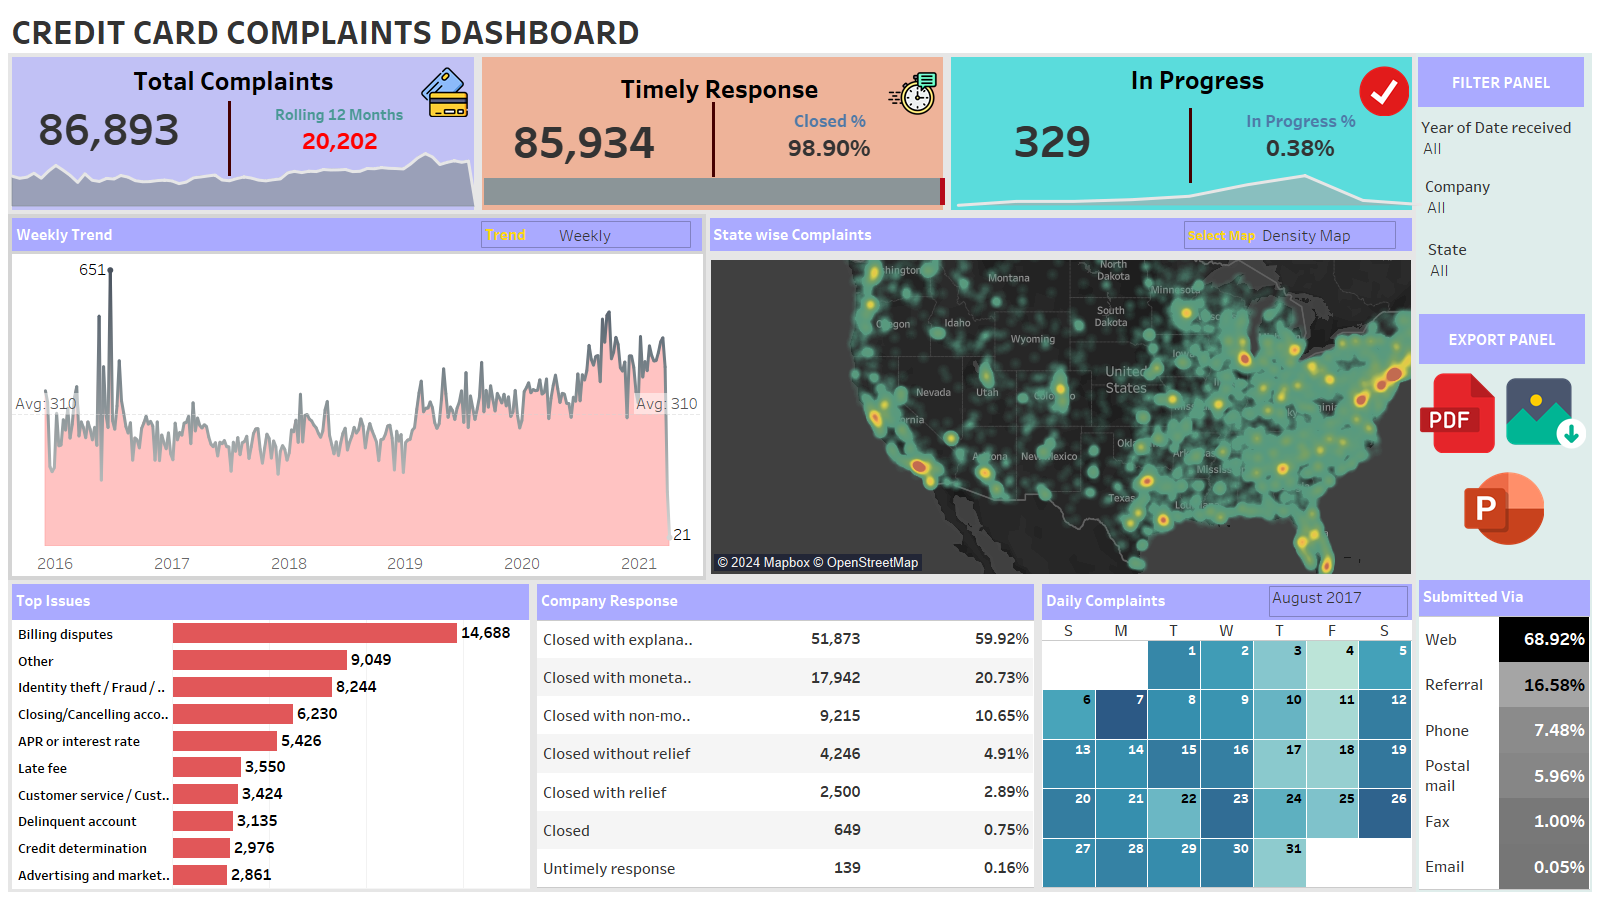

Layout of this report page (visuals, bound fields, positions):
{"tool":"tableau","page":{"name":"Dashboard 1","canvas":[1600,900],"ordinal":0},"visuals":[{"type":"title","box":[8,8,1408,45]},{"type":"blank","box":[1416,8,176,45]},{"type":"blank","box":[8,53,470,161]},{"type":"blank","box":[478,53,469,161]},{"type":"blank","box":[947,53,469,161]},{"type":"text","box":[1062,56,271,45]},{"type":"text","box":[98,57,271,45]},{"type":"text","box":[1418,57,166,50]},{"type":"text","box":[584,65,271,45]},{"type":"image","param":"E:/DATA ANALYTICS/TABLEAU PROJECTS/PROJECT 3/IMAGES/checked.png","box":[1352,66,65,50]},{"type":"image","param":"E:/DATA ANALYTICS/TABLEAU PROJECTS/PROJECT 3/IMAGES/credit.png","box":[412,67,65,50]},{"type":"image","param":"E:/DATA ANALYTICS/TABLEAU PROJECTS/PROJECT 3/IMAGES/response.png","box":[880,68,65,50]},{"type":"worksheet","title":"Total Complaints","mark":"Automatic","box":[23,98,173,60]},{"type":"blank","box":[228,101,3,75]},{"type":"worksheet","title":"Rolling 12 Month Complaints","mark":"Automatic","box":[240,101,200,59]},{"type":"blank","box":[712,102,3,75]},{"type":"worksheet","title":"Closed %","mark":"Automatic","box":[730,107,200,59]},{"type":"worksheet","title":"In Progress %","mark":"Automatic","box":[1201,107,200,59]},{"type":"blank","box":[1189,108,3,75]},{"type":"worksheet","title":"In Progress Complaints","mark":"Automatic","box":[967,110,173,60]},{"type":"worksheet","title":"Timely Response","mark":"Automatic","box":[498,111,173,60]},{"type":"filter","title":"Trend","param":"[federated.1jo1fng0e7te9f1153fbq199p6ap].[yr:Date received:ok]","box":[1421,116,157,50]},{"type":"worksheet","title":"In Progress SparkLine","mark":"Automatic","rows":["Calculation_1259037622215573512","Calculation_1259037622215573512"],"cols":["Date received"],"box":[933,172,512,36]},{"type":"worksheet","title":"Progress Bar","mark":"Bar","cols":["Calculation_1259037622214623239","Calculation_1259037622213677060"],"box":[484,173,484,36]},{"type":"filter","title":"Trend","param":"[federated.1jo1fng0e7te9f1153fbq199p6ap].[none:Company:nk]","box":[1425,175,154,53]},{"type":"worksheet","title":"Trend","mark":"Automatic","rows":["Number of Records","Number of Records"],"cols":["Calculation_615304350700707840"],"box":[8,213.8,698.5,366.2]},{"type":"text","box":[706.5,213.8,709.5,41]},{"type":"parameter","param":"[Parameters].[Parameter 2]","box":[481,221,210,27]},{"type":"parameter","param":"[Parameters].[Parameter 3]","box":[1184,221,212,28]},{"type":"filter","title":"Trend","param":"[federated.1jo1fng0e7te9f1153fbq199p6ap].[none:State:nk]","box":[1428,238,146,65]},{"type":"worksheet","title":"Density Map","mark":"Heatmap","box":[706.5,254.8,709.5,324.2]},{"type":"text","box":[1419,314,166,50]},{"type":"dashboard-object","box":[1415,373,85,80]},{"type":"dashboard-object","box":[1504,373,85,80]},{"type":"dashboard-object","box":[1462,468,85,80]},{"type":"worksheet","title":"Filled Map","mark":"Multipolygon","box":[706.5,579,709.5,1]},{"type":"worksheet","title":"Top Issues","mark":"Automatic","rows":["Issue"],"cols":["Number of Records"],"box":[8,580,525,312]},{"type":"worksheet","title":"Company Response","mark":"Automatic","rows":["Company response to consumer"],"box":[533,580,505,312]},{"type":"worksheet","title":"Daily Complaints","mark":"Square","rows":["Date received"],"cols":["Date received"],"box":[1038,580,377.9,312]},{"type":"worksheet","title":"Submitted Via","mark":"Square","rows":["Submitted via"],"box":[1419,580,171,310]},{"type":"filter","title":"Daily Complaints","param":"[federated.1jo1fng0e7te9f1153fbq199p6ap].[my:Date received:ok]","box":[1269,586,139,31]}]}

Visuals, with their boxes in screenshot pixels (x1, y1, x2, y2), scaled from the page's 1600x900 canvas onto the 1600x900 screenshot:
title: bbox(8, 8, 1416, 53)
blank: bbox(1416, 8, 1592, 53)
blank: bbox(8, 53, 478, 214)
blank: bbox(478, 53, 947, 214)
blank: bbox(947, 53, 1416, 214)
text: bbox(1062, 56, 1333, 101)
text: bbox(98, 57, 369, 102)
text: bbox(1418, 57, 1584, 107)
text: bbox(584, 65, 855, 110)
image: bbox(1352, 66, 1417, 116)
image: bbox(412, 67, 477, 117)
image: bbox(880, 68, 945, 118)
"Total Complaints" worksheet: bbox(23, 98, 196, 158)
blank: bbox(228, 101, 231, 176)
"Rolling 12 Month Complaints" worksheet: bbox(240, 101, 440, 160)
blank: bbox(712, 102, 715, 177)
"Closed %" worksheet: bbox(730, 107, 930, 166)
"In Progress %" worksheet: bbox(1201, 107, 1401, 166)
blank: bbox(1189, 108, 1192, 183)
"In Progress Complaints" worksheet: bbox(967, 110, 1140, 170)
"Timely Response" worksheet: bbox(498, 111, 671, 171)
"Trend" filter: bbox(1421, 116, 1578, 166)
"In Progress SparkLine" worksheet: bbox(933, 172, 1445, 208)
"Progress Bar" worksheet (Bar marks): bbox(484, 173, 968, 209)
"Trend" filter: bbox(1425, 175, 1579, 228)
"Trend" worksheet: bbox(8, 214, 706, 580)
text: bbox(706, 214, 1416, 255)
parameter: bbox(481, 221, 691, 248)
parameter: bbox(1184, 221, 1396, 249)
"Trend" filter: bbox(1428, 238, 1574, 303)
"Density Map" worksheet (Heatmap marks): bbox(706, 255, 1416, 579)
text: bbox(1419, 314, 1585, 364)
dashboard-object: bbox(1415, 373, 1500, 453)
dashboard-object: bbox(1504, 373, 1589, 453)
dashboard-object: bbox(1462, 468, 1547, 548)
"Filled Map" worksheet (Multipolygon marks): bbox(706, 579, 1416, 580)
"Top Issues" worksheet: bbox(8, 580, 533, 892)
"Company Response" worksheet: bbox(533, 580, 1038, 892)
"Daily Complaints" worksheet (Square marks): bbox(1038, 580, 1416, 892)
"Submitted Via" worksheet (Square marks): bbox(1419, 580, 1590, 890)
"Daily Complaints" filter: bbox(1269, 586, 1408, 617)
